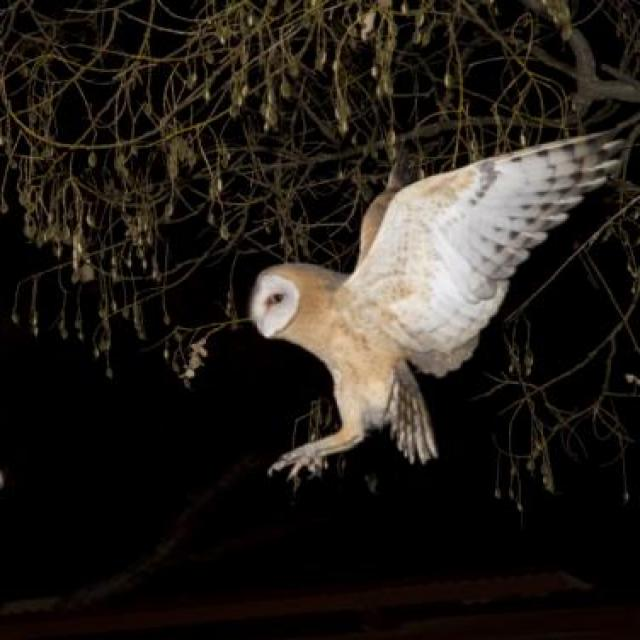birds: (214, 127, 640, 491)
